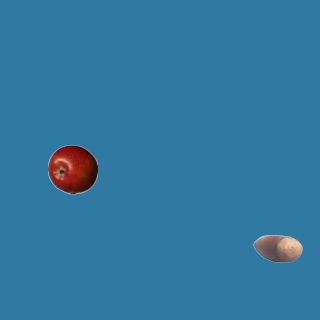Apple Braeburn: (47, 144, 97, 194)
Hazelnut: (252, 223, 302, 273)
